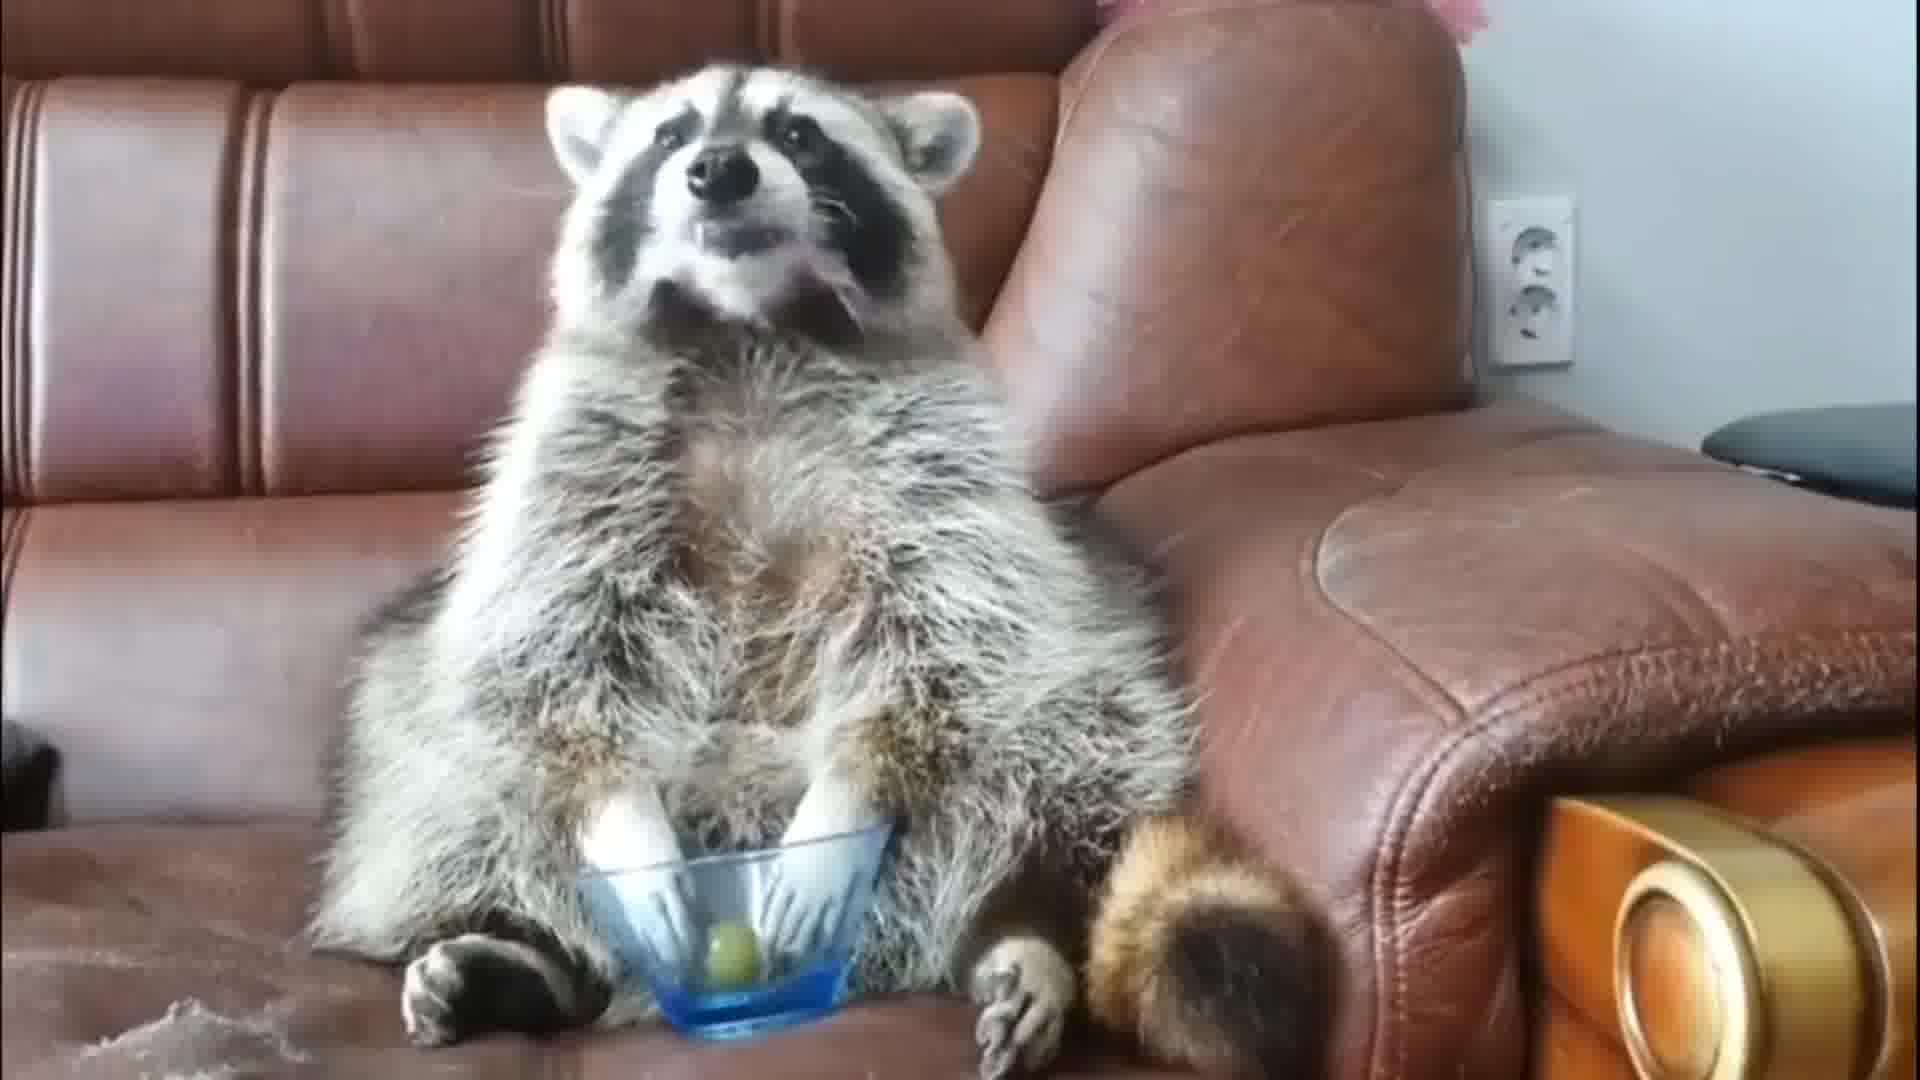raccoon: (308, 63, 1347, 1080)
